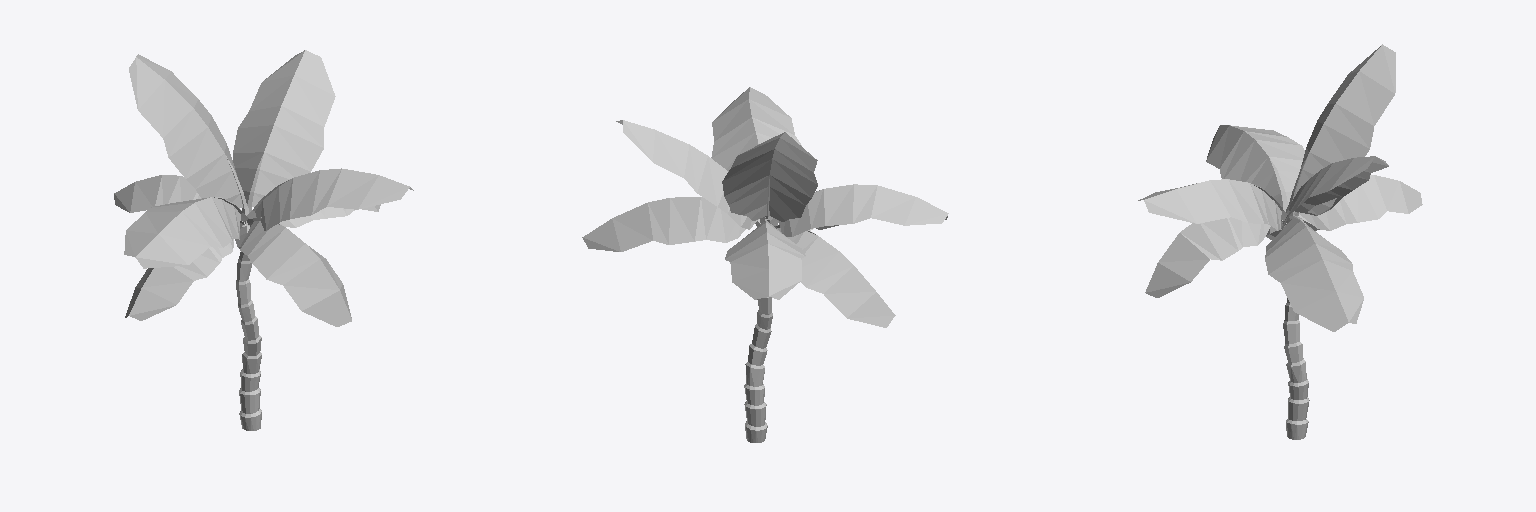
File: coconut palm 04_lod2.obj
The picture shows the model from 3 angles: view 1: azimuth 30°, elevation 25°; view 2: azimuth 150°, elevation 25°; view 3: azimuth 270°, elevation 25°; orthographic projection.
Parts seen in each view (by area): view 1: tree; view 2: tree; view 3: tree.
Part boxes in pixels (left/top/right/bottom): tree: left=114, top=50, right=413, bottom=430; tree: left=582, top=87, right=948, bottom=442; tree: left=1138, top=44, right=1422, bottom=439.
Size of the model in its own units: 374 by 416 by 302.